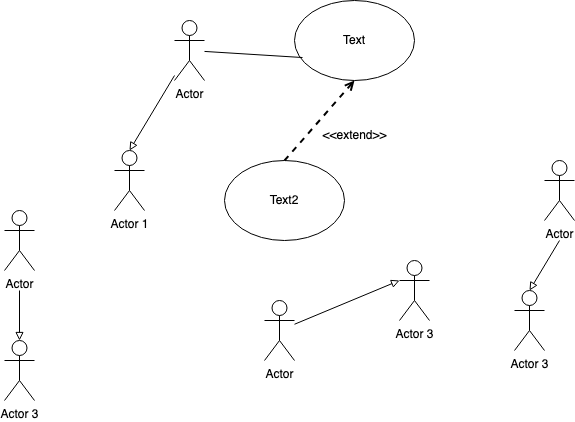actor: (3, 207, 39, 275), (112, 148, 149, 213), (262, 298, 298, 363), (2, 339, 39, 402), (541, 158, 575, 225), (397, 256, 431, 323), (173, 18, 208, 83), (514, 289, 546, 354)
association: (285, 81, 356, 157), (204, 46, 302, 65)
generalization: (296, 278, 399, 324), (129, 74, 176, 149), (529, 240, 560, 289), (14, 290, 27, 340)
text: (320, 126, 389, 146), (330, 25, 376, 51), (392, 325, 438, 343), (507, 357, 552, 375), (267, 190, 302, 210), (110, 215, 151, 231), (1, 407, 44, 422), (260, 366, 300, 381), (172, 86, 205, 102), (4, 277, 39, 292), (541, 227, 575, 240)
use_case: (221, 159, 346, 243), (292, 1, 417, 82)
